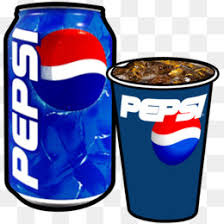pepsi: (2, 2, 113, 205)
